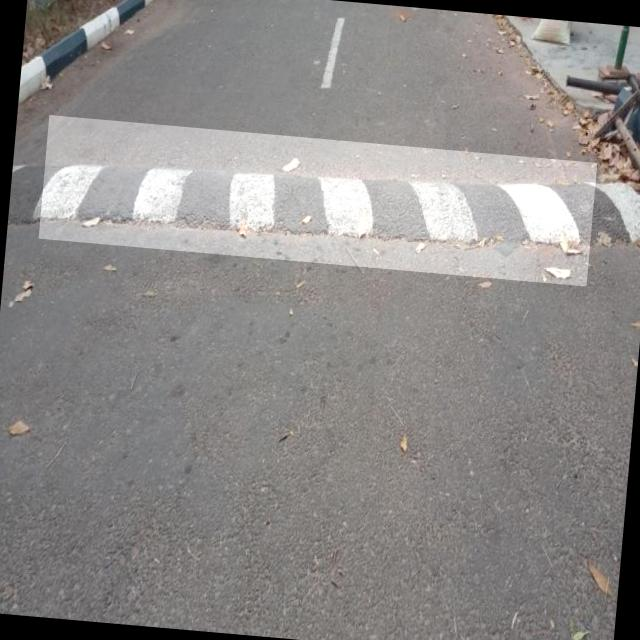bump: (38, 116, 596, 286)
